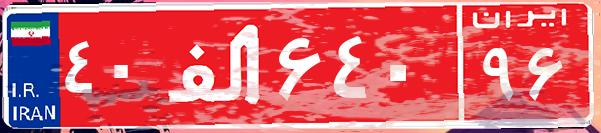0: (385, 28, 445, 110), (110, 28, 158, 105)
4: (330, 28, 385, 110), (57, 26, 110, 107)
6: (273, 28, 330, 110), (525, 38, 570, 115)
9: (475, 38, 525, 113)
الف: (158, 15, 273, 115)
